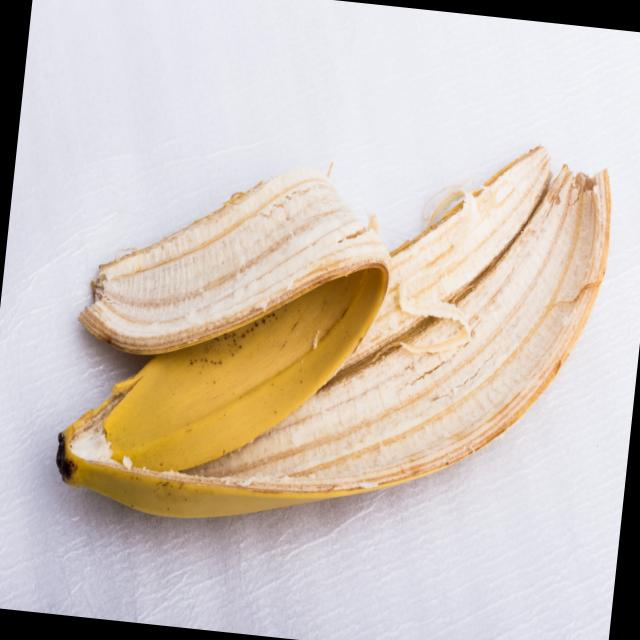banana_peel: (34, 118, 628, 551)
